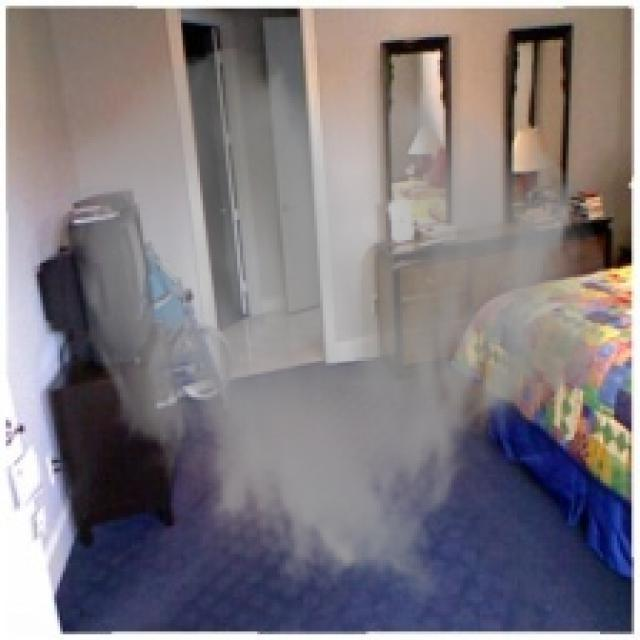Smoke: (57, 42, 614, 608)
